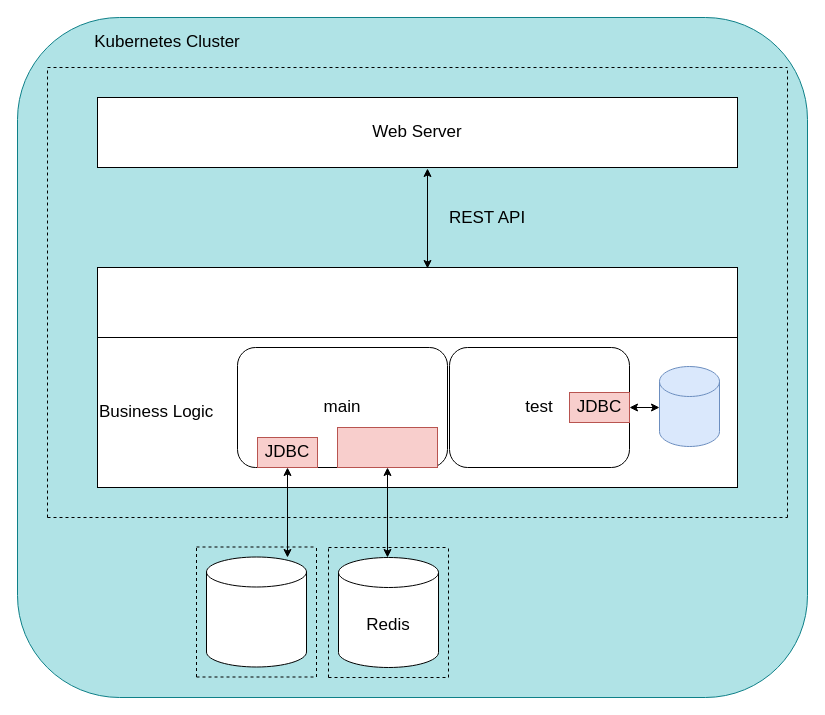
Some shapes in this 825 by 715 pixel diagram are drawn without their labels. The centre of each missing label's shape, as x and y in pixels:
H2: the point at 689,406
MariaDB: the point at 256,611
REST Controllers: the point at 417,302
Spring Data Redis: the point at 387,447
